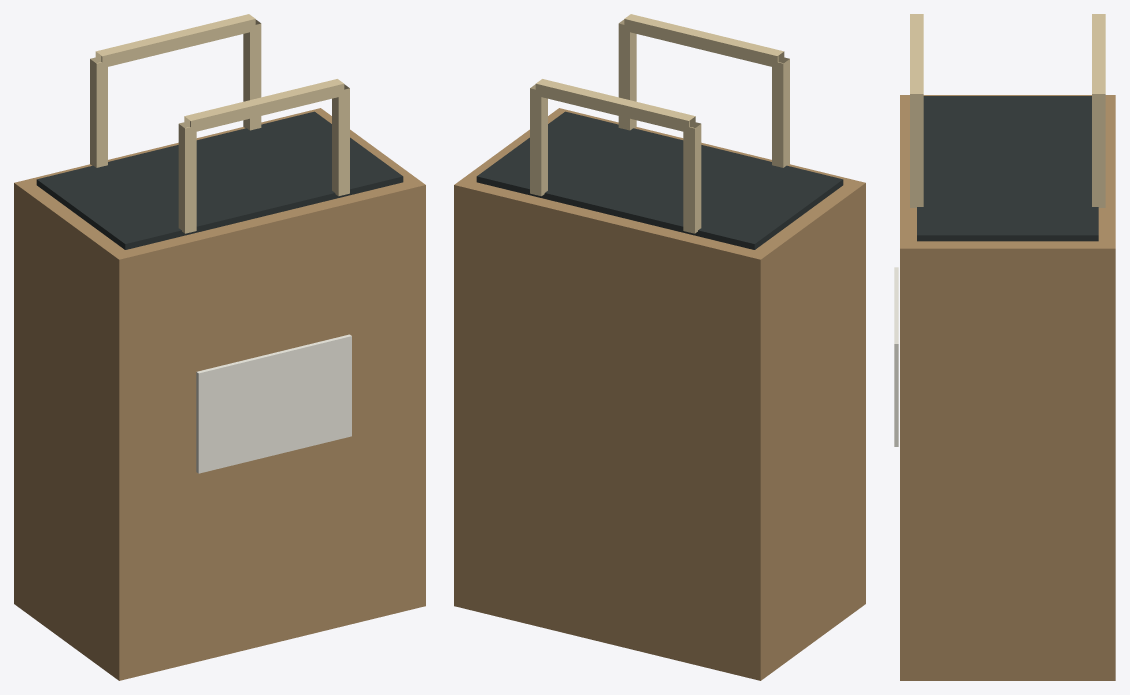
The model's file is tw_carry_shop.glb.
The picture shows the model from 3 angles, left to right: view 1: azimuth 30°, elevation 25°; view 2: azimuth 150°, elevation 25°; view 3: azimuth 270°, elevation 25°; orthographic projection. The views are drawn at different scales.
Parts seen in each view (by area): view 1: CorrugatedKraft, WovenBlackStrap, BlankShippingLabel, PackingTape; view 2: CorrugatedKraft, WovenBlackStrap, PackingTape; view 3: CorrugatedKraft, WovenBlackStrap, PackingTape, BlankShippingLabel.
Boxes of the visible parts, <box> form: CorrugatedKraft: <box>14,108,425,680</box>; WovenBlackStrap: <box>36,111,403,249</box>; BlankShippingLabel: <box>196,334,351,473</box>; PackingTape: <box>90,14,349,233</box>; CorrugatedKraft: <box>454,108,865,680</box>; WovenBlackStrap: <box>476,111,843,249</box>; PackingTape: <box>530,14,789,233</box>; CorrugatedKraft: <box>900,95,1115,680</box>; WovenBlackStrap: <box>917,96,1098,241</box>; PackingTape: <box>910,14,1105,207</box>; BlankShippingLabel: <box>894,267,898,446</box>.
Size of the model in its own units: 0.32 by 0.536 by 0.195.
